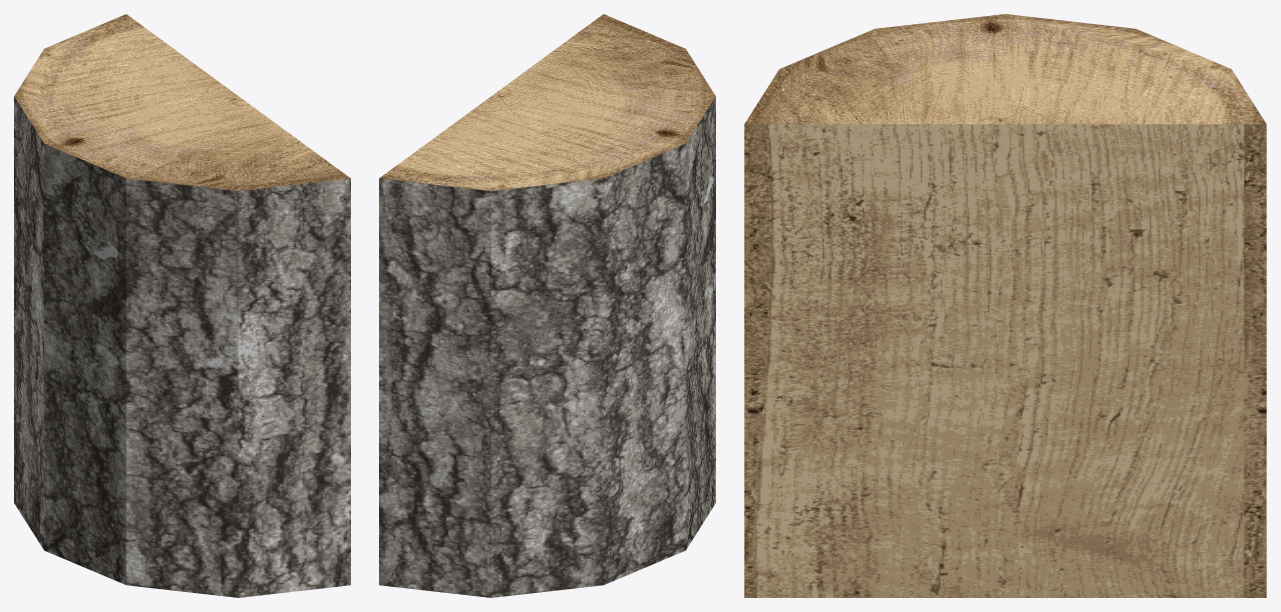
The model's file is half-log.glb.
3 views of the same model, side by side, from view 1: azimuth 30°, elevation 25°; view 2: azimuth 150°, elevation 25°; view 3: azimuth 270°, elevation 25° (orthographic). The views are drawn at different scales.
Parts seen in each view (by area): view 1: Cylinder; view 2: Cylinder; view 3: Cylinder.
Part boxes in pixels (<box>): Cylinder: <box>14,14,350,597</box>; Cylinder: <box>379,14,715,597</box>; Cylinder: <box>744,14,1266,597</box>.
Bounding box in the file's own units: 1 × 2 × 2.
3 materials, 3 textured.
